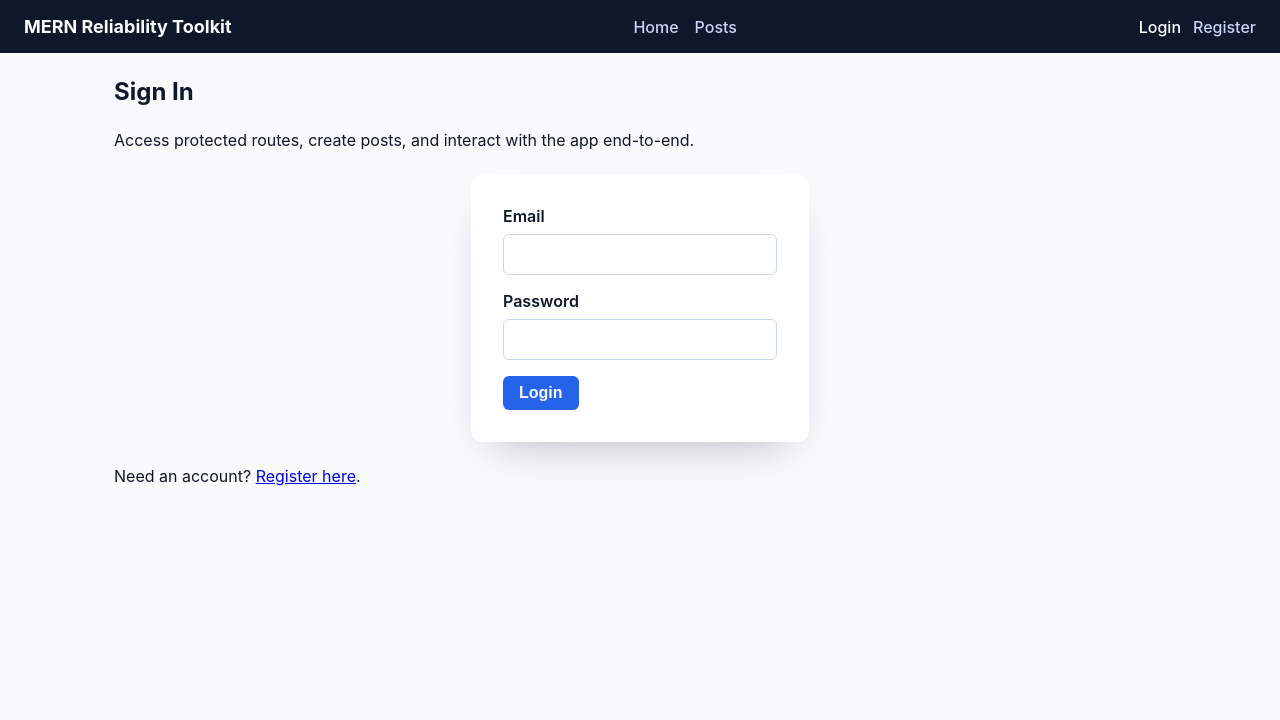
Test: Login Flow E2E Tests › should handle login API errors
Type "test@example.com" into the field named "email" at (640, 255), box [503, 234, 777, 275]
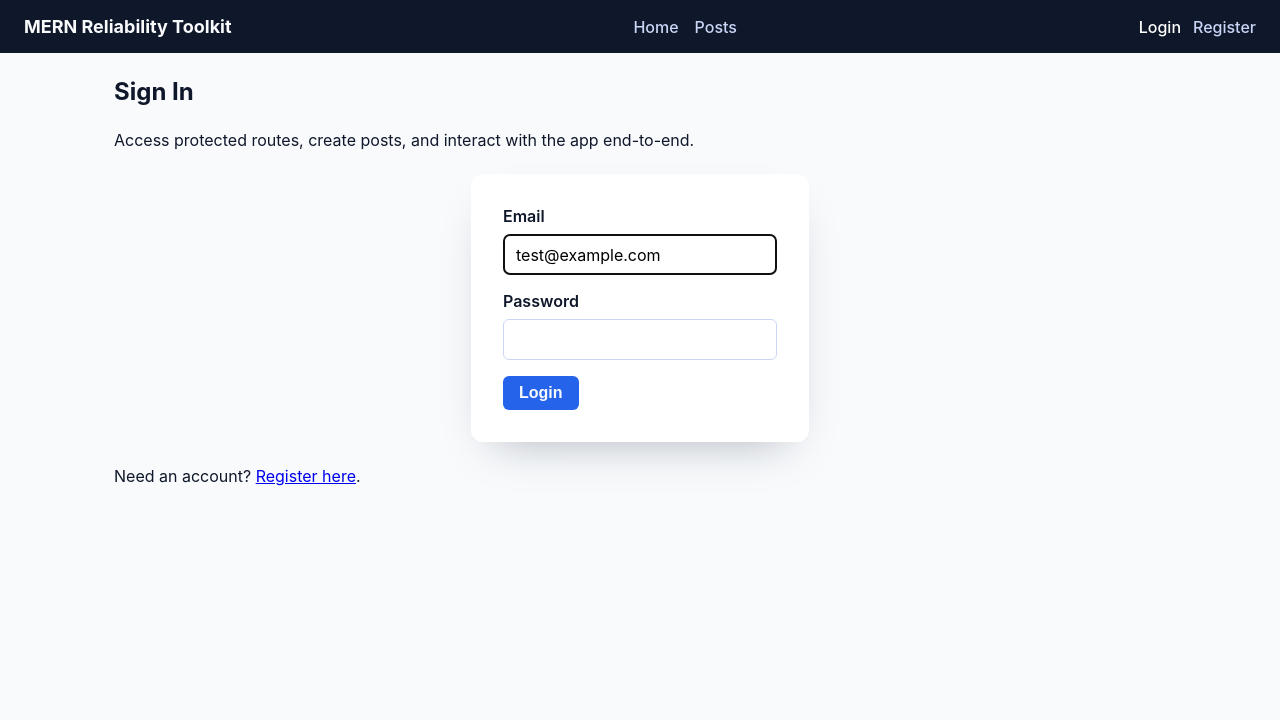
Type "Wrongpass1" into the password field named "password" at (640, 340), box [503, 319, 777, 360]
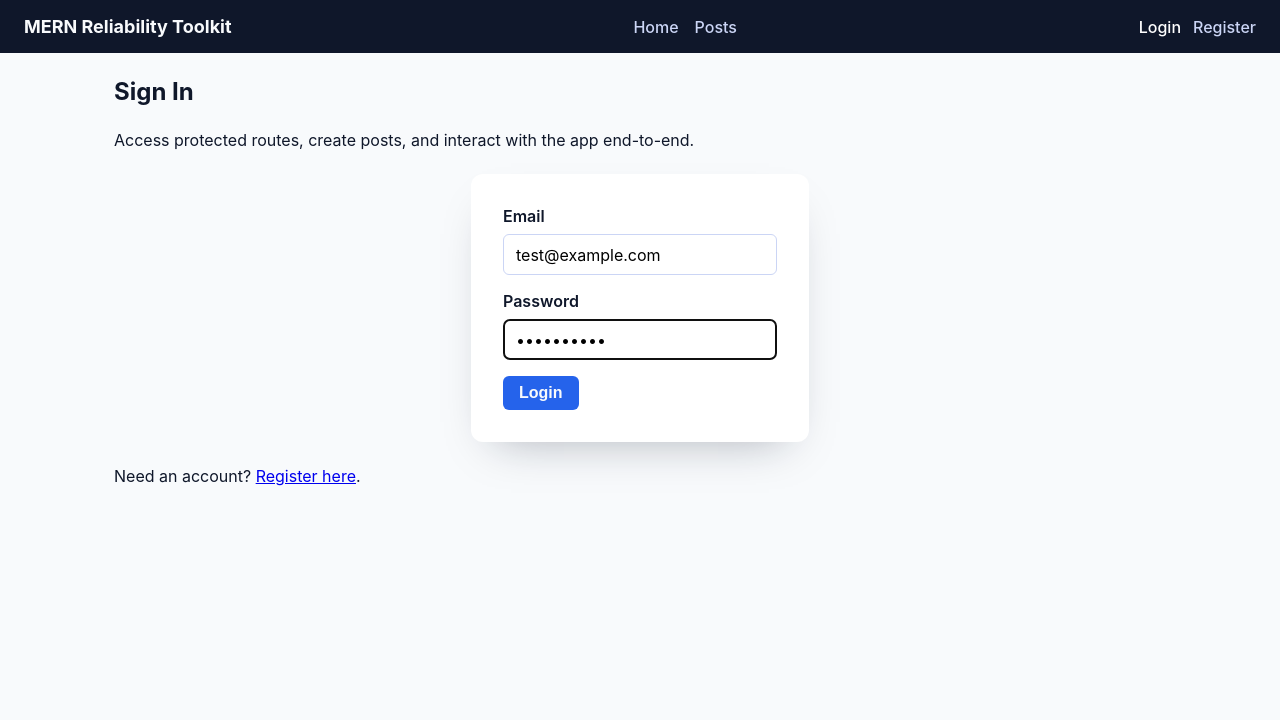
Click the submit button at (541, 393), box [503, 376, 579, 410]
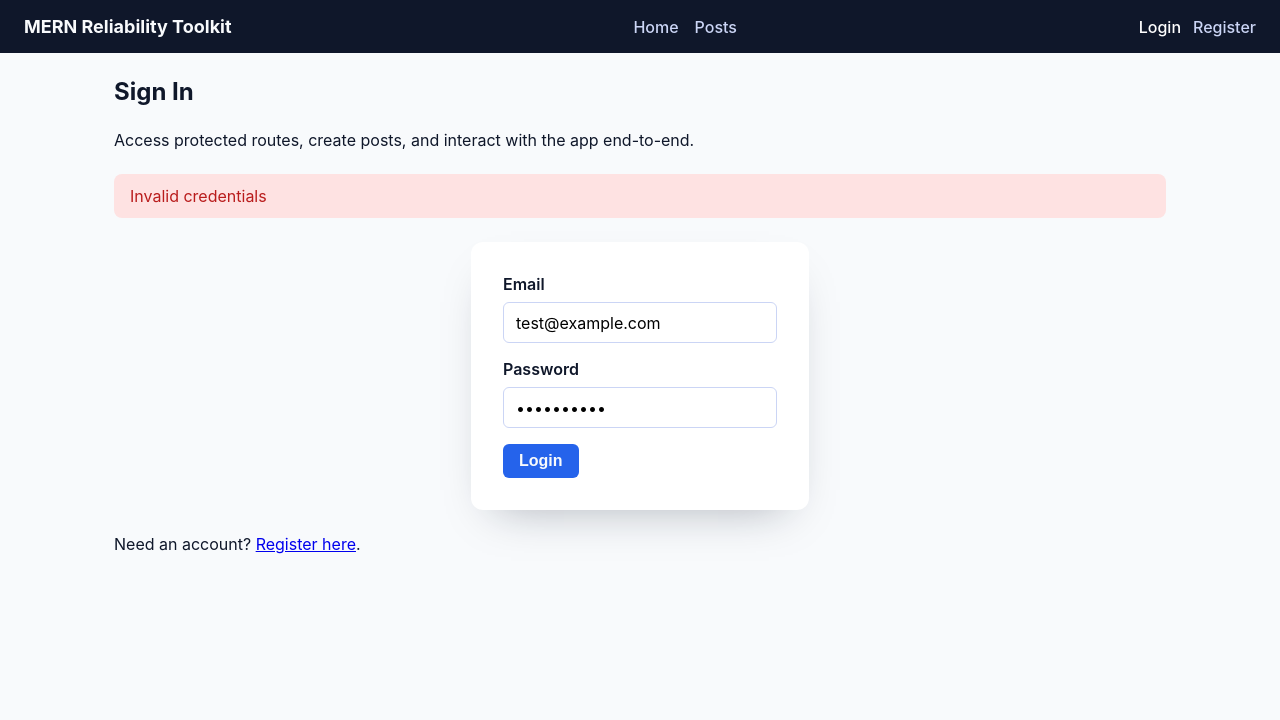
Now the text "Invalid credentials" is shown, box [114, 174, 1166, 218]
